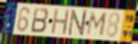6: (16, 6, 31, 34)
8: (106, 11, 122, 39)
B: (30, 7, 50, 34)
H: (50, 8, 71, 36)
M: (85, 11, 109, 37)
N: (67, 9, 87, 37)
